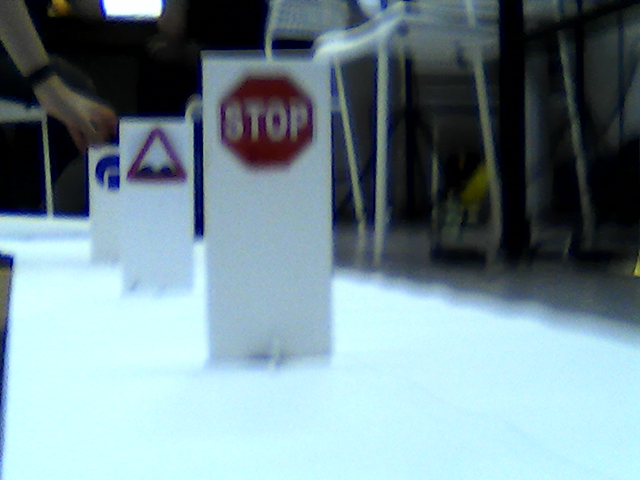Right: (94, 155, 118, 189)
Stop: (212, 70, 317, 179)
